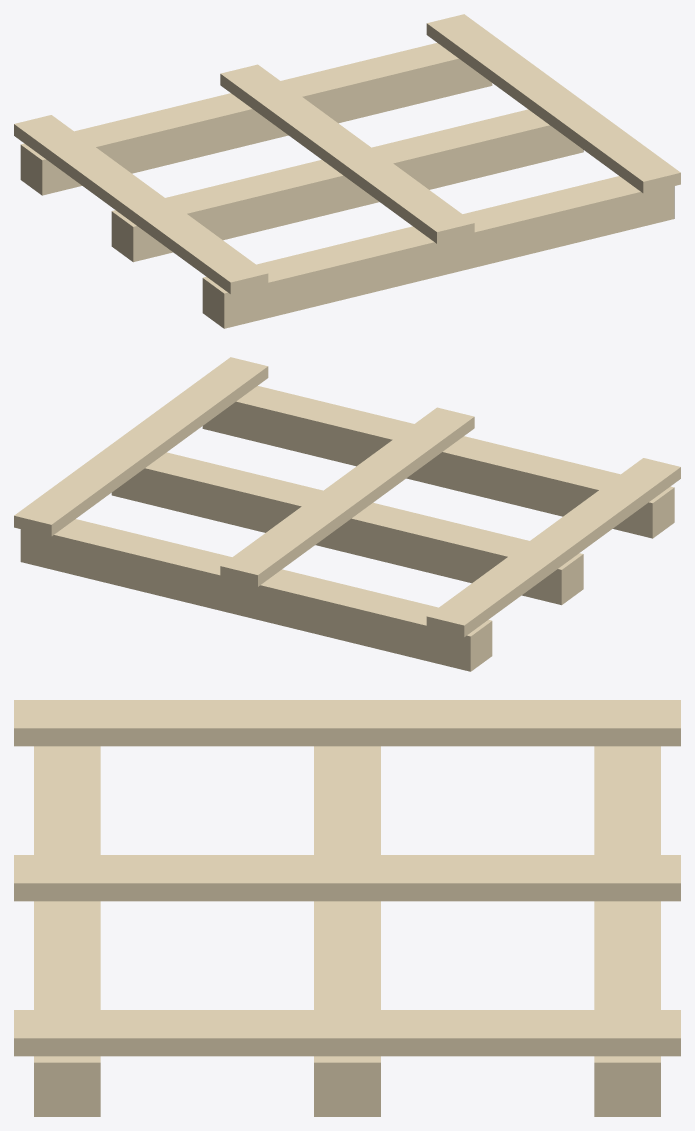
Rendered from pallet.glb.
3 renders of one model, top to bottom at view 1: azimuth 30°, elevation 25°; view 2: azimuth 150°, elevation 25°; view 3: azimuth 270°, elevation 25°, orthographic. The views are drawn at different scales.
Visible parts, largest first — view 1: pallet.001; view 2: pallet.001; view 3: pallet.001.
Boxes of the visible parts, bbox=[...] form: pallet.001: bbox=[14, 14, 680, 328]; pallet.001: bbox=[14, 357, 680, 671]; pallet.001: bbox=[14, 700, 680, 1116].
Size of the model in its own units: 1.2 by 0.13 by 1.
